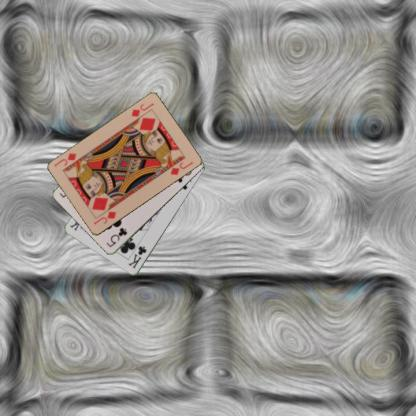5c: (104, 226, 128, 248)
Jd: (128, 100, 155, 118), (91, 208, 117, 226)
Kc: (125, 244, 148, 270)
